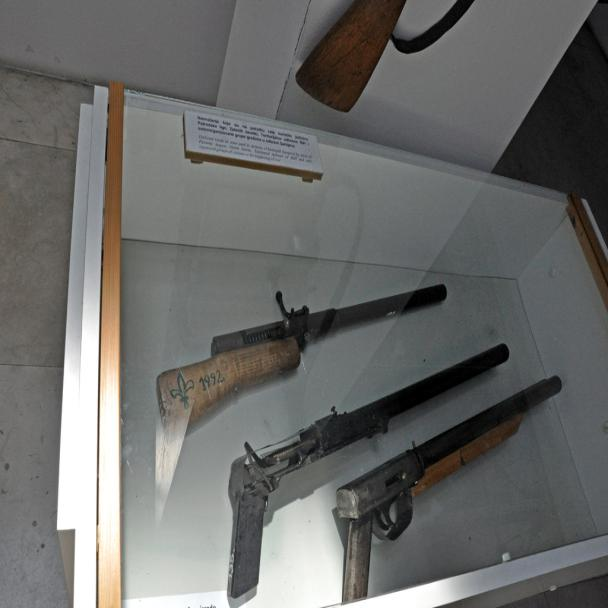Gun: (218, 334, 512, 522), (328, 370, 568, 593), (154, 277, 450, 450)
